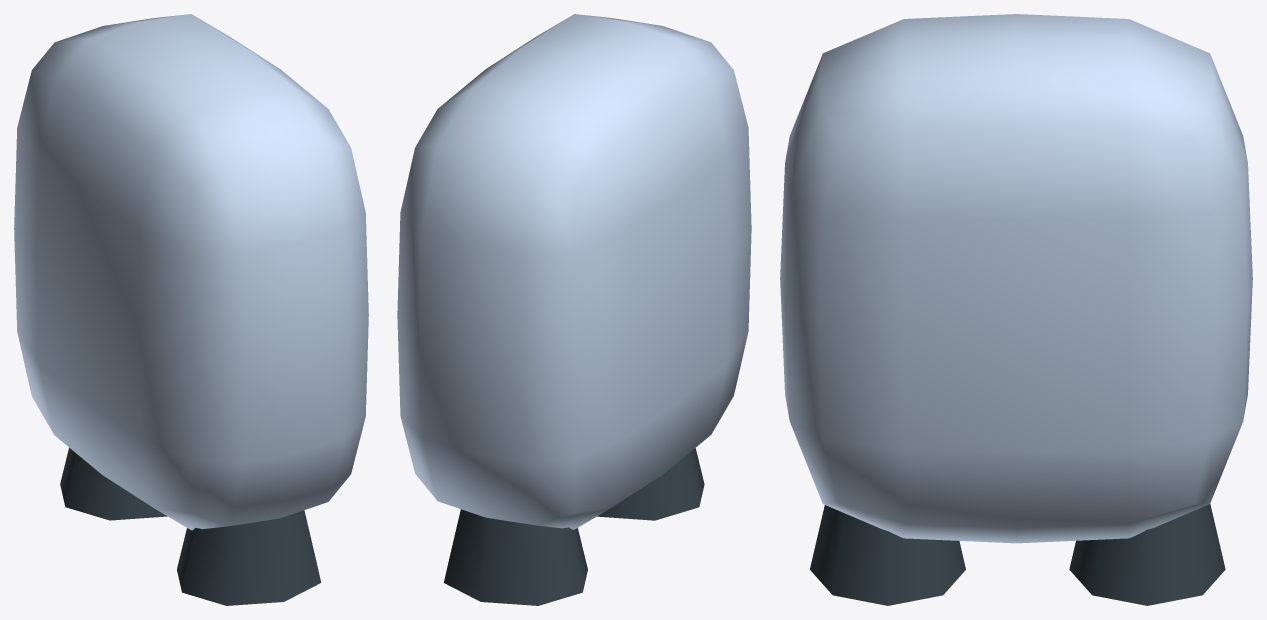
File: BackPack.fbx
3 renders of one model, left to right at view 1: azimuth 30°, elevation 25°; view 2: azimuth 150°, elevation 25°; view 3: azimuth 270°, elevation 25°, orthographic. The views are drawn at different scales.
Parts seen in each view (by area): view 1: backpack; view 2: backpack; view 3: backpack.
Part boxes in pixels (<box>): backpack: <box>14,14,368,605</box>; backpack: <box>397,14,751,605</box>; backpack: <box>780,14,1252,605</box>.
Bounding box in the file's own units: 18.83 × 40.46 × 32.53.
